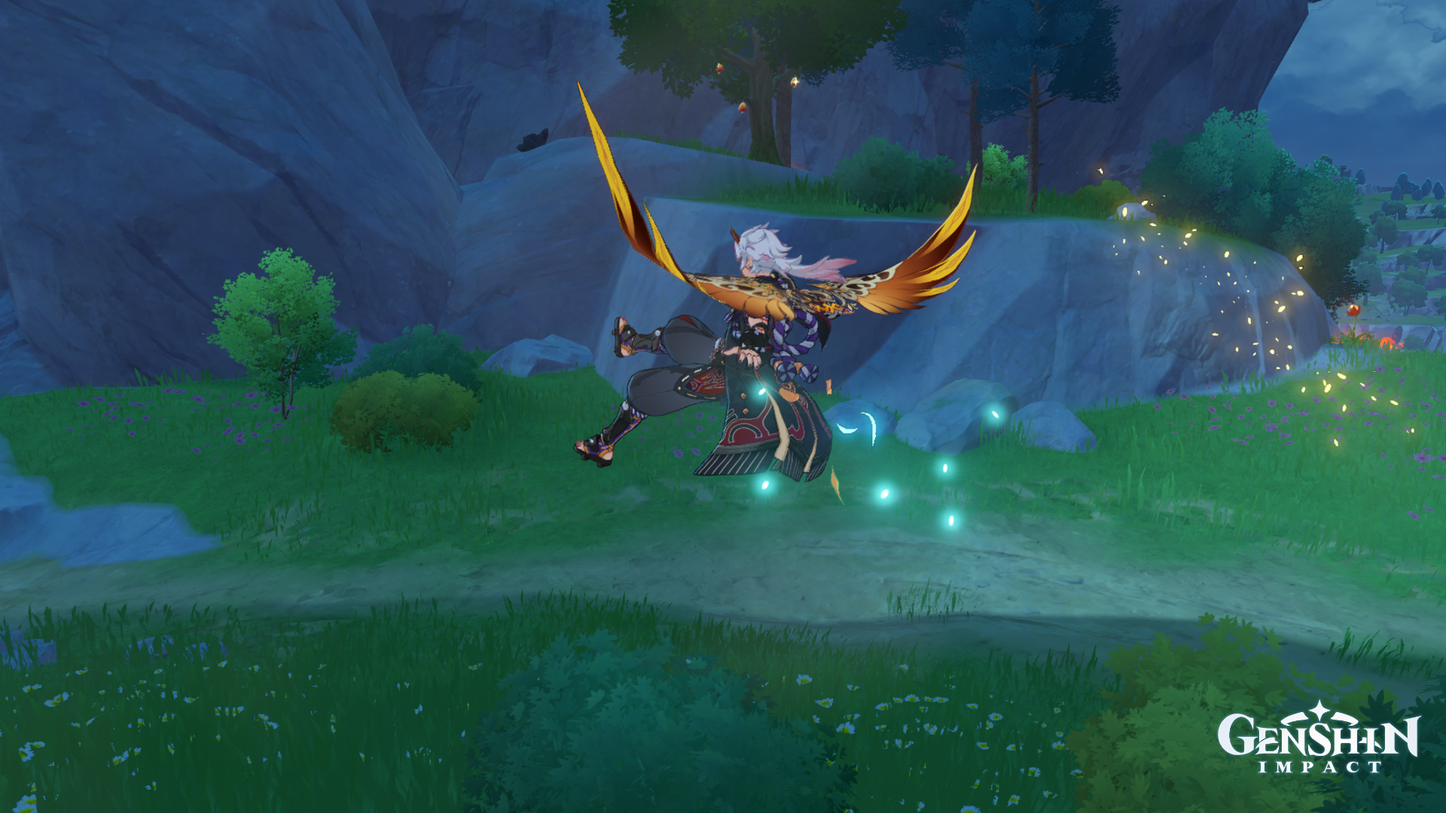Human: (573, 228, 853, 480)
Ore: (518, 123, 549, 151)
Tree: (616, 0, 884, 158), (987, 5, 1107, 215), (223, 252, 341, 421), (919, 5, 1006, 198)
